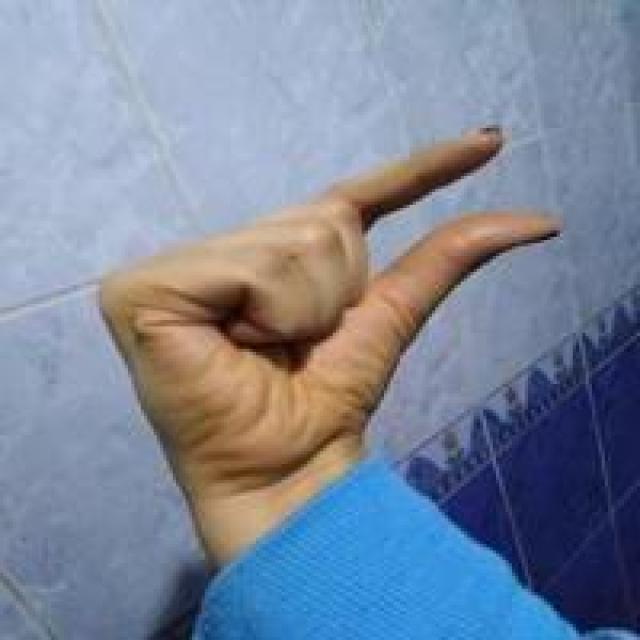G: (101, 116, 581, 487)
